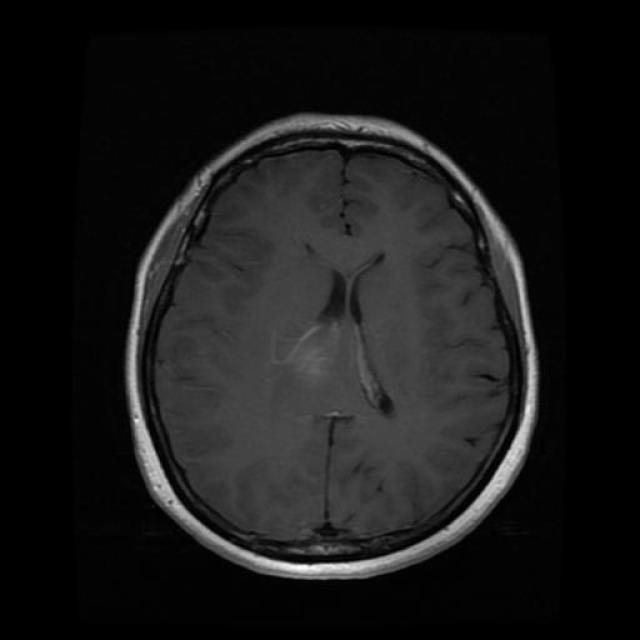meningioma: (300, 346, 334, 386)
